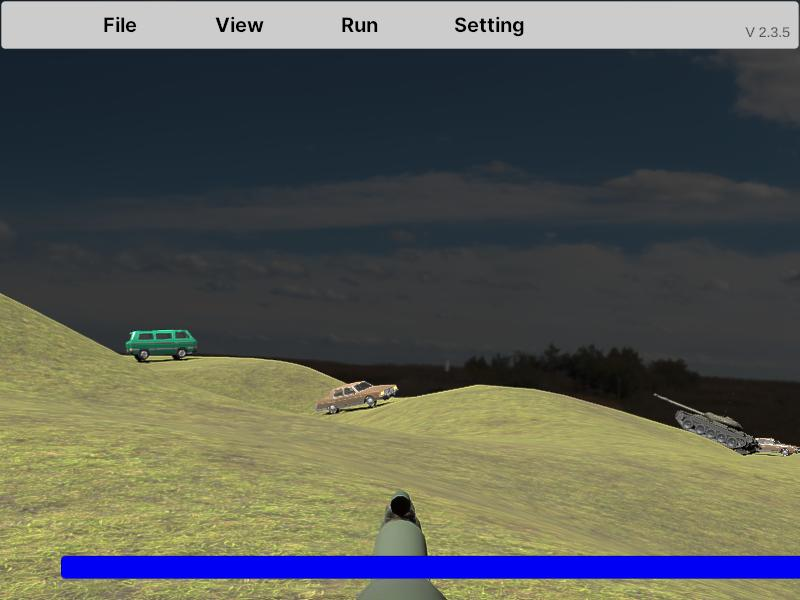Tank: (652, 393, 759, 455)
car: (316, 380, 398, 415), (126, 329, 197, 362)
